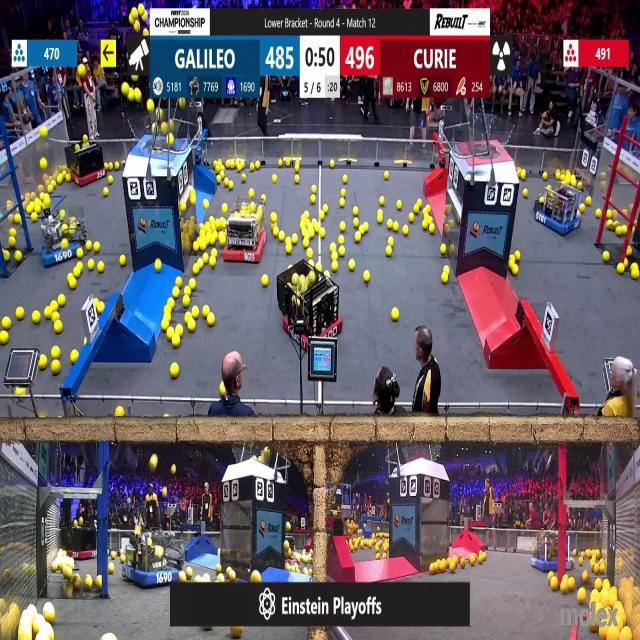ball_airborne: (149, 455, 157, 471), (138, 5, 146, 19), (120, 84, 128, 97), (77, 65, 85, 78), (134, 91, 142, 103), (147, 100, 154, 113), (40, 127, 47, 138), (129, 91, 136, 102), (162, 121, 168, 132), (179, 98, 185, 109), (169, 134, 174, 146), (132, 7, 138, 17), (134, 22, 140, 32), (172, 464, 177, 475), (130, 14, 135, 24), (170, 119, 174, 129), (133, 74, 138, 82), (143, 29, 148, 37), (164, 488, 168, 497), (161, 110, 165, 118), (258, 456, 262, 463)
ball_ground: (44, 605, 54, 625), (233, 626, 244, 639), (171, 362, 180, 377), (50, 359, 59, 373), (39, 355, 48, 369), (577, 589, 585, 604), (50, 347, 59, 359), (0, 333, 8, 346), (70, 350, 78, 363), (2, 317, 10, 330), (560, 582, 568, 595), (251, 570, 260, 581), (15, 308, 23, 320), (33, 312, 41, 324), (54, 321, 62, 333), (632, 267, 640, 279), (172, 337, 180, 349), (50, 310, 58, 322), (86, 576, 94, 588), (218, 235, 226, 247), (430, 562, 438, 574), (446, 562, 454, 574), (552, 577, 559, 590), (49, 302, 58, 312), (172, 287, 180, 298), (115, 408, 123, 419), (229, 569, 237, 580), (392, 308, 398, 322), (154, 262, 161, 274), (182, 295, 189, 307), (208, 314, 215, 326), (263, 275, 270, 287), (191, 308, 198, 320), (203, 306, 210, 318), (187, 320, 194, 332), (69, 278, 76, 290), (103, 634, 117, 640), (602, 251, 610, 261), (348, 262, 356, 272), (442, 274, 450, 284), (13, 251, 21, 261), (220, 383, 226, 396), (59, 294, 66, 305), (285, 244, 292, 255), (188, 279, 195, 290), (98, 303, 105, 314), (44, 309, 51, 320), (515, 250, 522, 261), (306, 228, 313, 239), (363, 271, 369, 283), (119, 254, 125, 266), (4, 250, 10, 262), (97, 575, 103, 587), (221, 204, 227, 216), (600, 628, 606, 640), (354, 233, 361, 243), (339, 246, 346, 256), (8, 238, 15, 248), (94, 243, 101, 253), (180, 571, 187, 581), (360, 222, 367, 232), (76, 248, 83, 258), (210, 256, 217, 266), (520, 170, 527, 180), (617, 226, 624, 236), (480, 552, 487, 562), (218, 572, 225, 582), (583, 571, 590, 581), (33, 624, 40, 634), (188, 196, 195, 206), (183, 312, 190, 322), (200, 242, 207, 252), (177, 324, 183, 335), (442, 244, 448, 255), (192, 265, 198, 276), (513, 266, 519, 277), (108, 563, 114, 574), (74, 268, 80, 279), (168, 326, 174, 337), (596, 580, 602, 591), (180, 201, 186, 212), (186, 568, 192, 579), (204, 573, 212, 581), (420, 220, 428, 228), (339, 236, 346, 245), (198, 262, 205, 271), (424, 214, 431, 223), (225, 161, 232, 170), (99, 264, 105, 274), (402, 224, 408, 234), (331, 263, 337, 273), (386, 246, 392, 256), (292, 235, 298, 245), (341, 221, 347, 231), (619, 265, 625, 275), (308, 248, 314, 258), (90, 262, 96, 272), (163, 320, 169, 330), (278, 232, 284, 242), (204, 252, 210, 262), (168, 297, 174, 307), (353, 218, 359, 228), (308, 196, 314, 206), (192, 242, 198, 252), (87, 242, 93, 252), (210, 237, 216, 247), (219, 218, 225, 228), (606, 219, 612, 229), (469, 556, 475, 566), (183, 287, 190, 295), (329, 244, 336, 252), (330, 252, 337, 260), (15, 387, 22, 395), (193, 574, 200, 582), (380, 198, 386, 207), (176, 278, 182, 287), (396, 201, 402, 210), (204, 201, 210, 210), (627, 247, 633, 256), (352, 207, 358, 216), (272, 213, 278, 222), (428, 223, 434, 232), (262, 195, 268, 204), (248, 188, 254, 197), (299, 221, 305, 230), (322, 204, 328, 213), (316, 264, 322, 273), (424, 205, 430, 214), (578, 204, 584, 213), (249, 164, 255, 173), (410, 213, 415, 223), (320, 230, 325, 240), (606, 210, 611, 220), (14, 214, 19, 224), (596, 210, 602, 218), (304, 239, 310, 247), (444, 267, 450, 275), (392, 222, 398, 230), (216, 564, 222, 572), (341, 188, 347, 196), (212, 248, 218, 256), (273, 230, 279, 238), (32, 214, 38, 222), (414, 206, 420, 214), (304, 210, 310, 218), (571, 550, 577, 558), (378, 214, 383, 223), (10, 230, 16, 237), (312, 217, 318, 224), (110, 552, 116, 559), (341, 200, 346, 208), (388, 238, 393, 246), (388, 220, 393, 228), (114, 163, 119, 171), (329, 162, 334, 170), (587, 198, 592, 206), (384, 172, 389, 180), (294, 165, 299, 173), (47, 185, 52, 193), (624, 258, 629, 266), (104, 187, 108, 196), (228, 184, 232, 193), (223, 178, 227, 187), (108, 176, 113, 183), (48, 633, 53, 640), (312, 185, 317, 192), (343, 176, 348, 183), (294, 176, 299, 183), (216, 176, 221, 183), (542, 173, 547, 180), (578, 559, 583, 566), (383, 554, 388, 561), (210, 216, 215, 223), (417, 200, 422, 207), (273, 175, 277, 183), (524, 188, 528, 196), (242, 175, 246, 183), (67, 175, 71, 183), (255, 163, 259, 171), (279, 158, 283, 166), (120, 556, 124, 564), (377, 554, 381, 561), (320, 213, 324, 220), (105, 163, 108, 171), (83, 339, 86, 346)
goal: (459, 118, 517, 158), (129, 114, 186, 152)
robot_blue: (37, 211, 87, 269), (123, 533, 173, 590), (536, 186, 581, 236), (531, 535, 558, 573)
robot_red: (280, 264, 343, 344), (226, 194, 266, 261), (67, 138, 105, 188), (60, 518, 97, 558)
